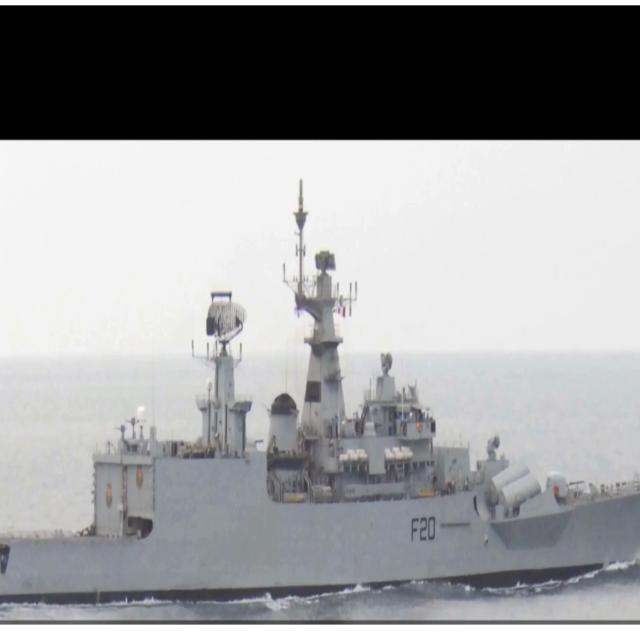OCR: (404, 510, 439, 550)
